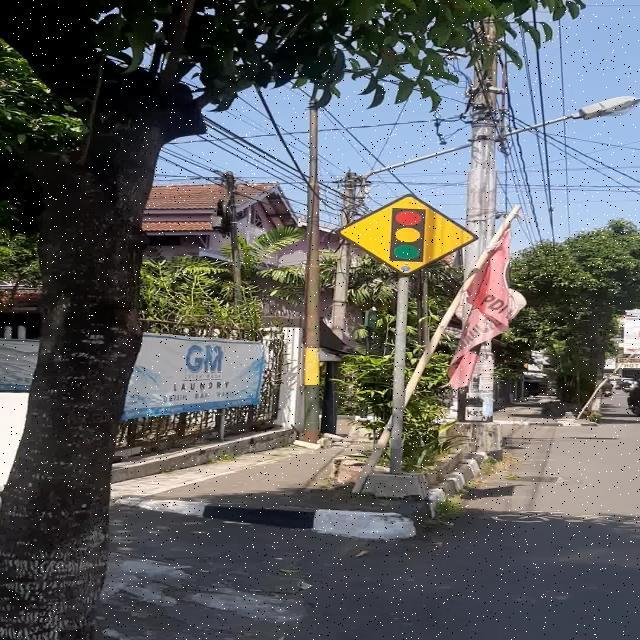Lampu Lalu Lintas: (336, 193, 478, 276)
